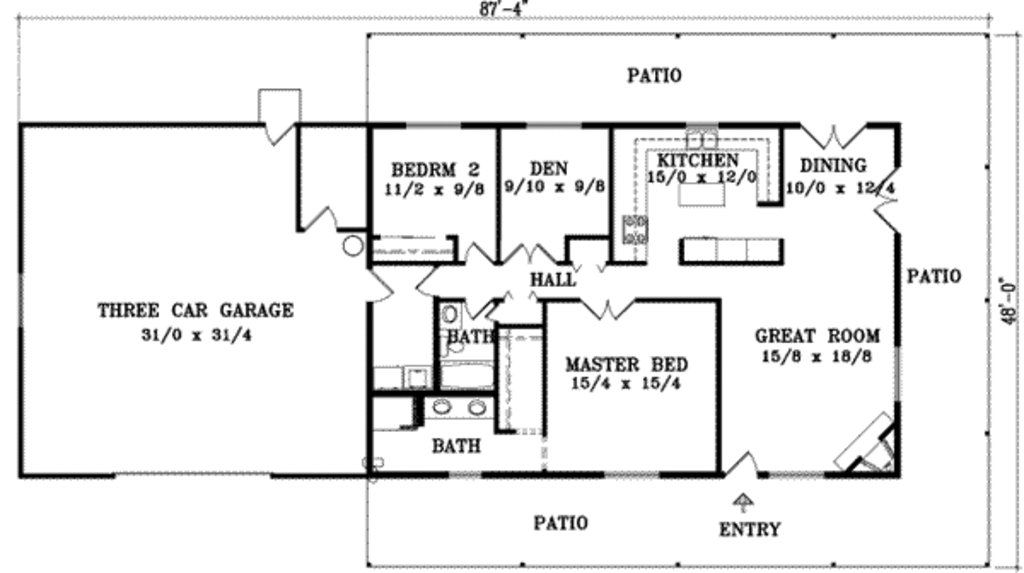door: (795, 113, 866, 154), (863, 163, 905, 231), (503, 235, 559, 271), (292, 200, 343, 232), (574, 296, 634, 323), (712, 451, 766, 479), (412, 259, 445, 298), (254, 119, 293, 150), (462, 238, 502, 266), (362, 267, 394, 299), (462, 300, 489, 322)
large_sink: (433, 330, 474, 357)
small_sink: (422, 394, 502, 425), (435, 294, 462, 327)
tub: (441, 357, 502, 394)
twin_sink: (679, 119, 724, 163)
window: (601, 467, 673, 489), (888, 337, 909, 404), (401, 117, 466, 134), (528, 118, 582, 131), (764, 471, 827, 479), (439, 472, 488, 482)
